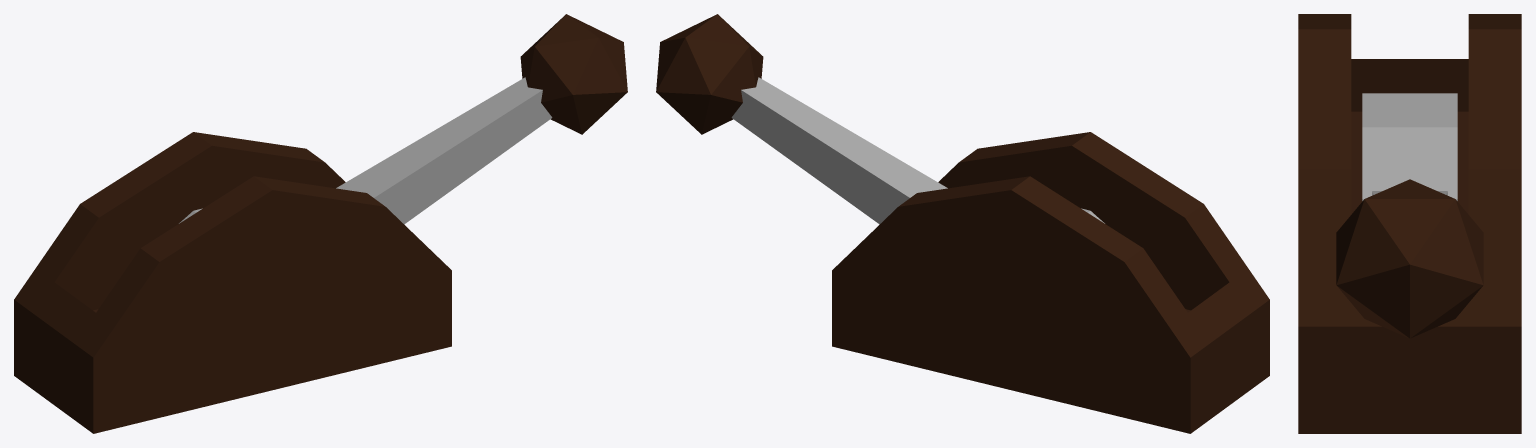
File: Lever_OFF.glb
3 views of the same model, side by side, from view 1: azimuth 30°, elevation 25°; view 2: azimuth 150°, elevation 25°; view 3: azimuth 270°, elevation 25° (orthographic). The views are drawn at different scales.
Visible parts, largest first — view 1: Lever_OFF; view 2: Lever_OFF; view 3: Lever_OFF.
Part boxes in pixels (bbox=[...]): Lever_OFF: bbox=[14, 14, 627, 433]; Lever_OFF: bbox=[656, 14, 1269, 433]; Lever_OFF: bbox=[1298, 14, 1521, 433].
Size of the model in its own units: 0.3213 by 0.1347 by 0.0775.
